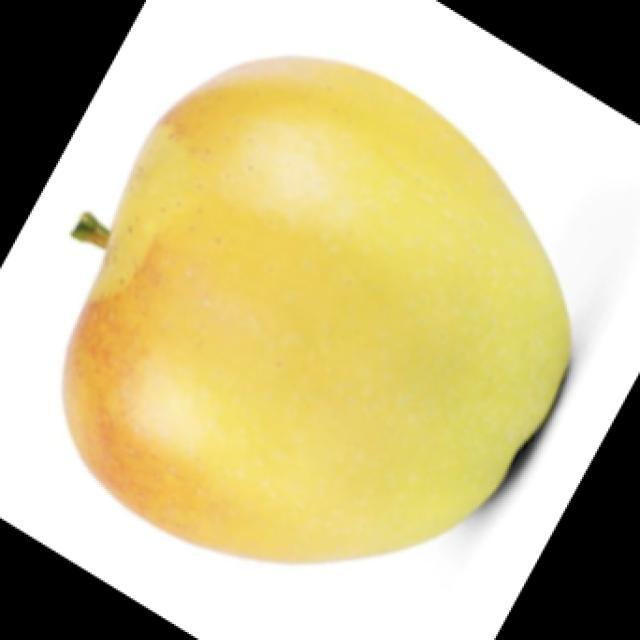Apple: (61, 54, 572, 564)
